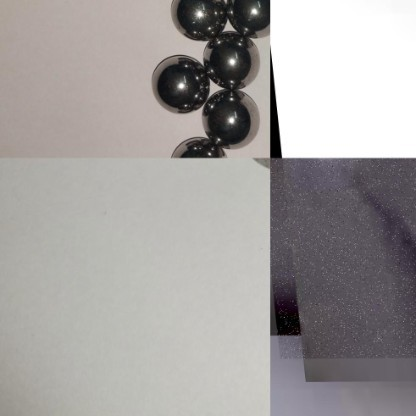ironball: (270, 158, 415, 358), (202, 83, 269, 147), (144, 51, 212, 112), (206, 31, 261, 88), (169, 0, 224, 41), (227, 0, 267, 40), (169, 137, 234, 157)
